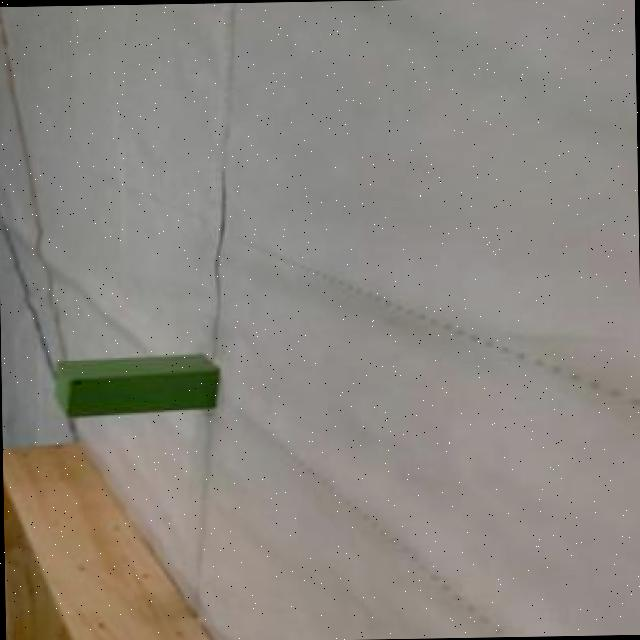greenbox: (47, 349, 224, 422)
